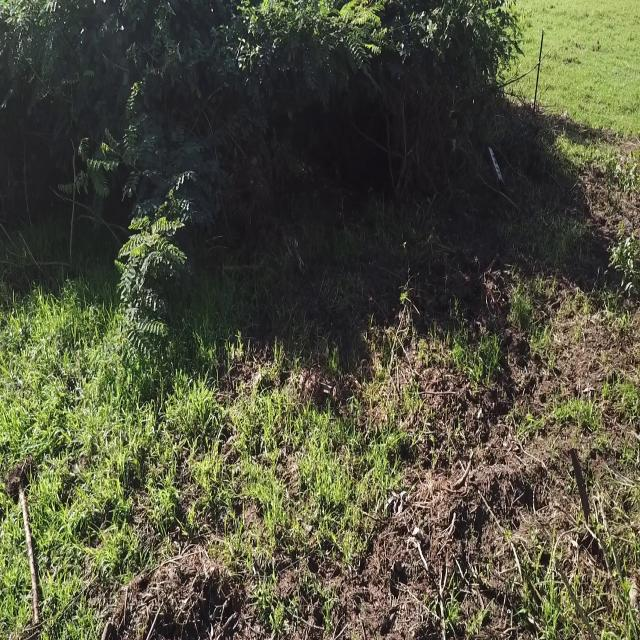Mysore-Thorn-Weed: (119, 173, 189, 360), (232, 0, 377, 74), (60, 116, 156, 209)
